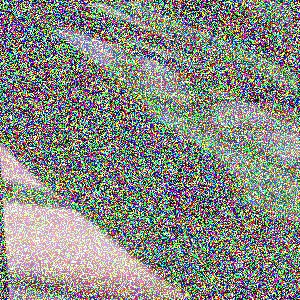Brown_Spot: (145, 163, 279, 256), (87, 89, 164, 157)
